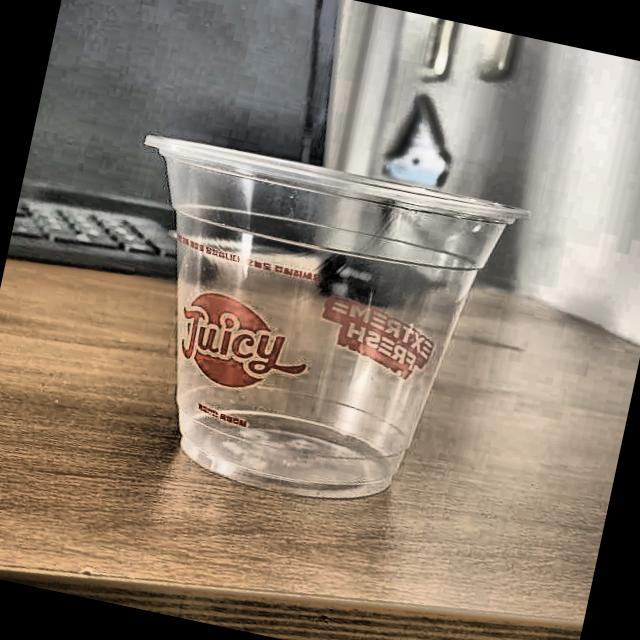plastic cup: (76, 124, 532, 531)
